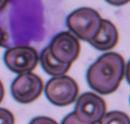M: (3, 0, 48, 46)
